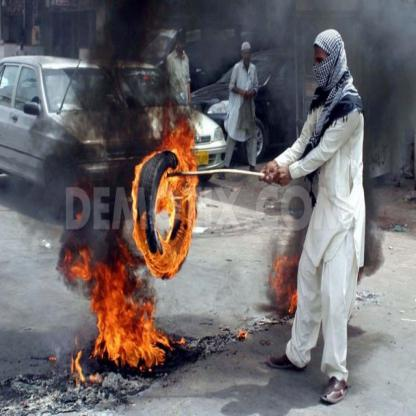face: (314, 52, 331, 88), (178, 39, 186, 52), (243, 51, 251, 62), (21, 41, 24, 47)
